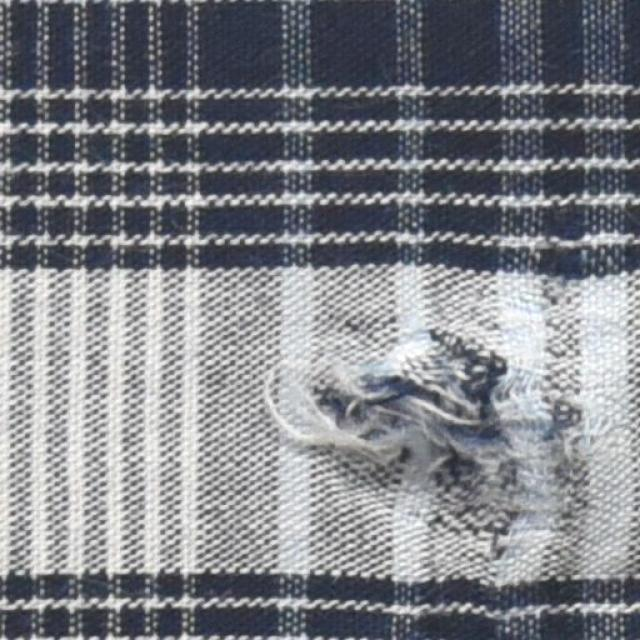Snag: (255, 325, 567, 539)
